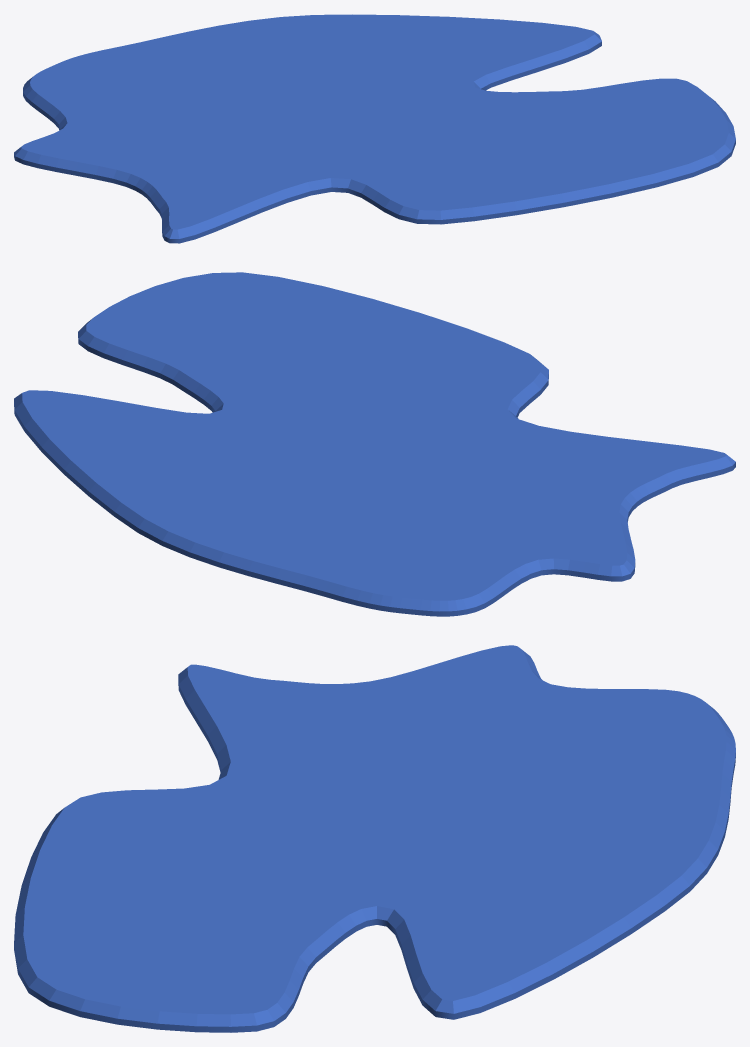
The model's file is puddle.FBX.
3 renders of one model, top to bottom at view 1: azimuth 30°, elevation 25°; view 2: azimuth 150°, elevation 25°; view 3: azimuth 270°, elevation 25°, orthographic. The views are drawn at different scales.
Visible parts, largest first — view 1: Line001; view 2: Line001; view 3: Line001.
Part boxes in pixels (left/top/right/bottom): Line001: left=14, top=14, right=735, bottom=243; Line001: left=14, top=272, right=735, bottom=616; Line001: left=14, top=645, right=735, bottom=1032.
Bounding box in the file's own units: 112 × 2 × 90.55.
